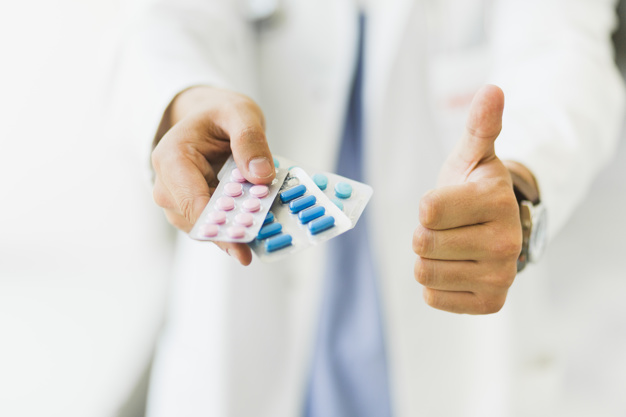thumbsup: (412, 84, 522, 315)
